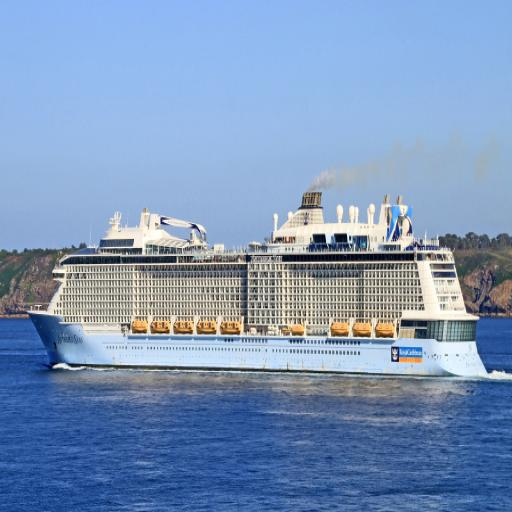cruises: (25, 188, 492, 388)
